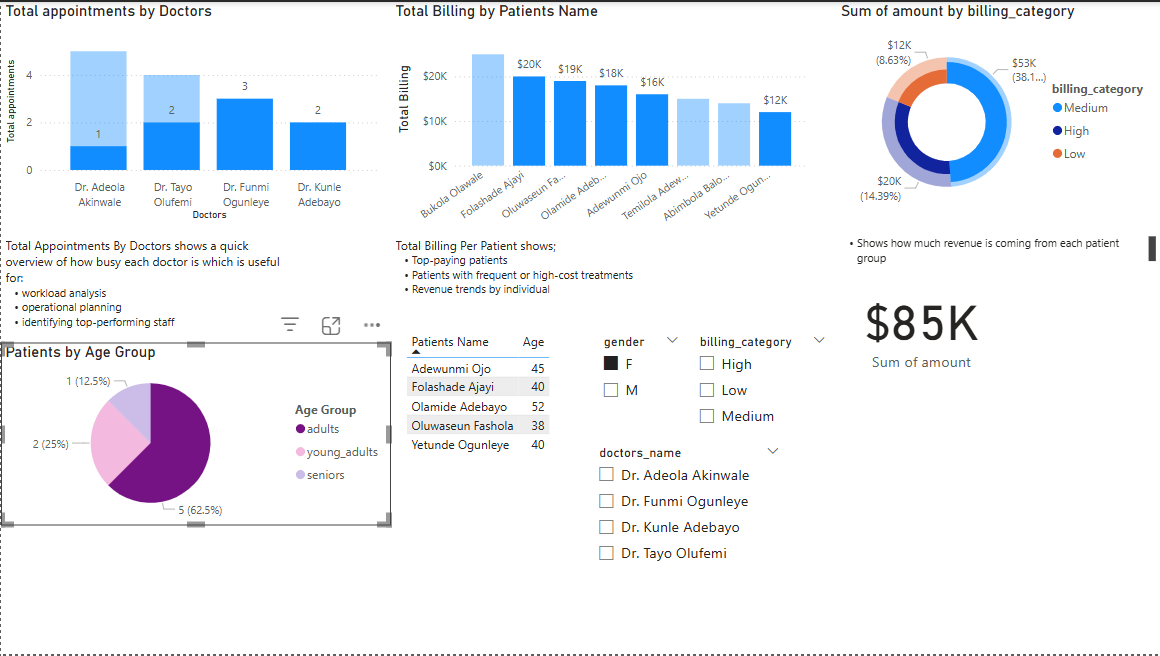

The dashboard page shown, as its layout file describes it:
{"tool":"powerbi","page":{"name":"Page 1","canvas":[1280,720],"ordinal":0},"visuals":[{"type":"tableEx","fields":{"Values":["Patients_Data.name","Patients_Data.age"]},"box":[442.3,359.5,197.1,273.3],"z":0},{"type":"columnChart","fields":{"Category":["Doctors_Data.doctors_name"],"Y":["CountNonNull(Appointments.appointment_id)"]},"box":[0,0,420.7,245.2],"z":1000},{"type":"textbox","box":[0,253.4,313.1,134.2],"z":2000},{"type":"columnChart","fields":{"Category":["Patients_Data.name"],"Y":["Sum(Billing.amount)"]},"box":[430.7,0,465.5,273.3],"z":3000},{"type":"textbox","box":[430.7,253.4,329.6,79.5],"z":4000},{"type":"slicer","fields":{"Values":["Patients_Data.gender"]},"box":[652.7,361.1,107.7,87.8],"z":5000},{"type":"pieChart","fields":{"Category":["Patients_Data.Age Group"],"Y":["CountNonNull(Patients_Data.patients_id)"]},"box":[0,376,430.7,202.1],"z":6000},{"type":"card","fields":{"Values":["Sum(Billing.amount)"]},"box":[922.7,306.4,187.2,102.7],"z":7002},{"type":"slicer","fields":{"Values":["Billing.billing_category"]},"box":[758.7,361.1,164,122.6],"z":7003},{"type":"donutChart","fields":{"Category":["Billing.billing_category"],"Y":["Sum(Billing.amount)"]},"box":[922.7,0,357.8,245.2],"z":7004},{"type":"textbox","box":[922.7,253.4,357.8,53],"z":7005},{"type":"slicer","fields":{"Values":["Doctors_Data.doctors_name"]},"box":[647.7,483.7,223.6,149.1],"z":7006}]}

Visuals, with their boxes in screenshot pixels (x1, y1, x2, y2), scaled from the page's 1280x720 canvas onto the 1160x656 screenshot:
tableEx - Patients_Data.name x Patients_Data.age: bbox=[401, 328, 579, 577]
columnChart - Doctors_Data.doctors_name x CountNonNull(Appointments.appointment_id): bbox=[0, 0, 381, 223]
textbox: bbox=[0, 231, 284, 353]
columnChart - Patients_Data.name x Sum(Billing.amount): bbox=[390, 0, 812, 249]
textbox: bbox=[390, 231, 689, 303]
slicer - Patients_Data.gender: bbox=[592, 329, 689, 409]
pieChart - Patients_Data.Age Group x CountNonNull(Patients_Data.patients_id): bbox=[0, 343, 390, 527]
card - Sum(Billing.amount): bbox=[836, 279, 1006, 373]
slicer - Billing.billing_category: bbox=[688, 329, 836, 441]
donutChart - Billing.billing_category x Sum(Billing.amount): bbox=[836, 0, 1159, 223]
textbox: bbox=[836, 231, 1159, 279]
slicer - Doctors_Data.doctors_name: bbox=[587, 441, 790, 577]
